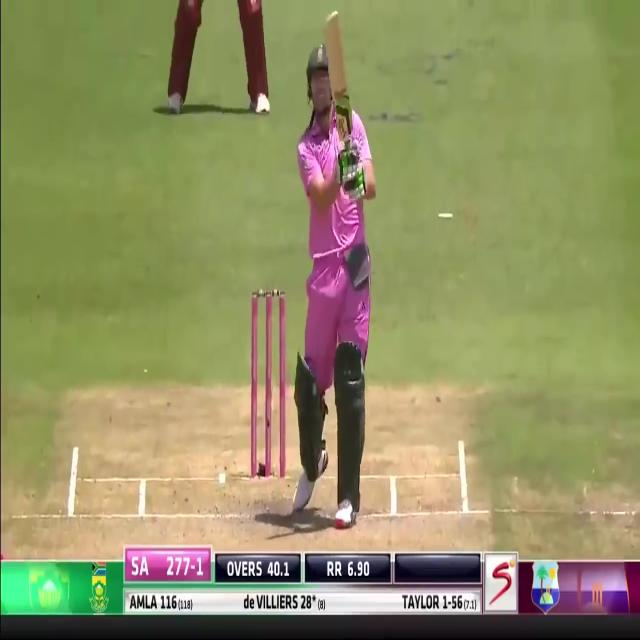Ball: (292, 11, 374, 529)
Fielder: (164, 1, 273, 119)
